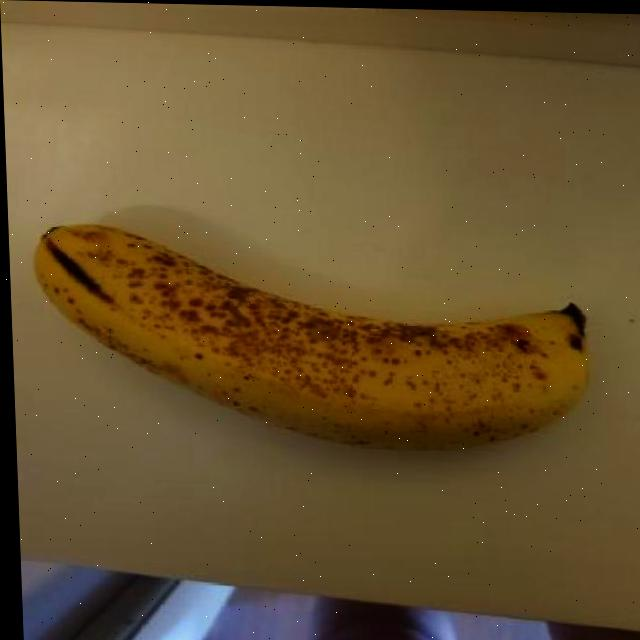banana: (23, 211, 601, 460)
